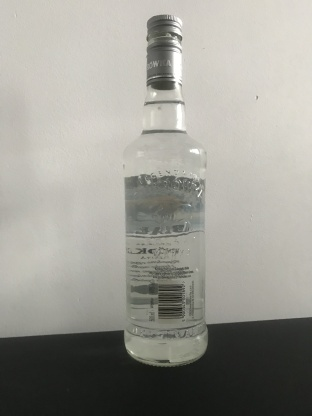nakretka: (144, 12, 184, 90)
